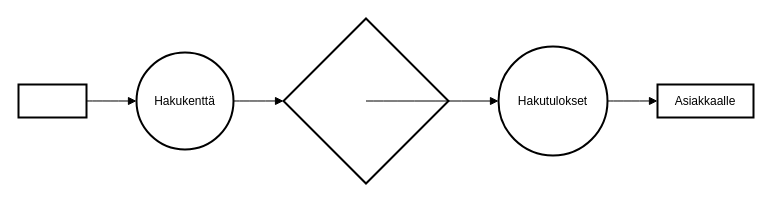
The diagram is 771 pixels wide and 201 high, and some of its shapes have lost their labels. Each missing label, with the box of its shape:
Asiakas: (17, 83, 87, 118)
Tuotteiden haku: (282, 17, 449, 184)
